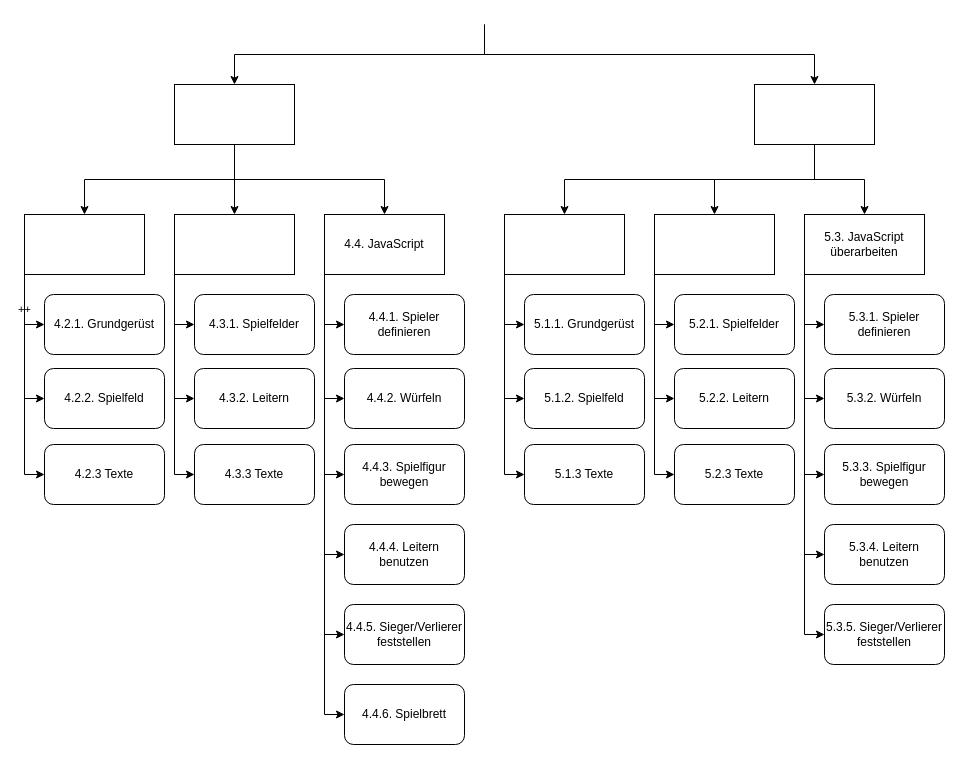
This 962x762 diagram has some shape labels left out. The shapes that lost their labels are listed below. From the top down, each one's centre as x and y in pixels, then its label:
At pixel 234 114: "4. Prototyp".
At pixel 814 114: "5. Spiel".
At pixel 84 244: "4.2. HTML".
At pixel 234 244: "4.3. CSS".
At pixel 564 244: "5.1. HTML überarbeiten".
At pixel 714 244: "5.2. CSS überarbeiten".
